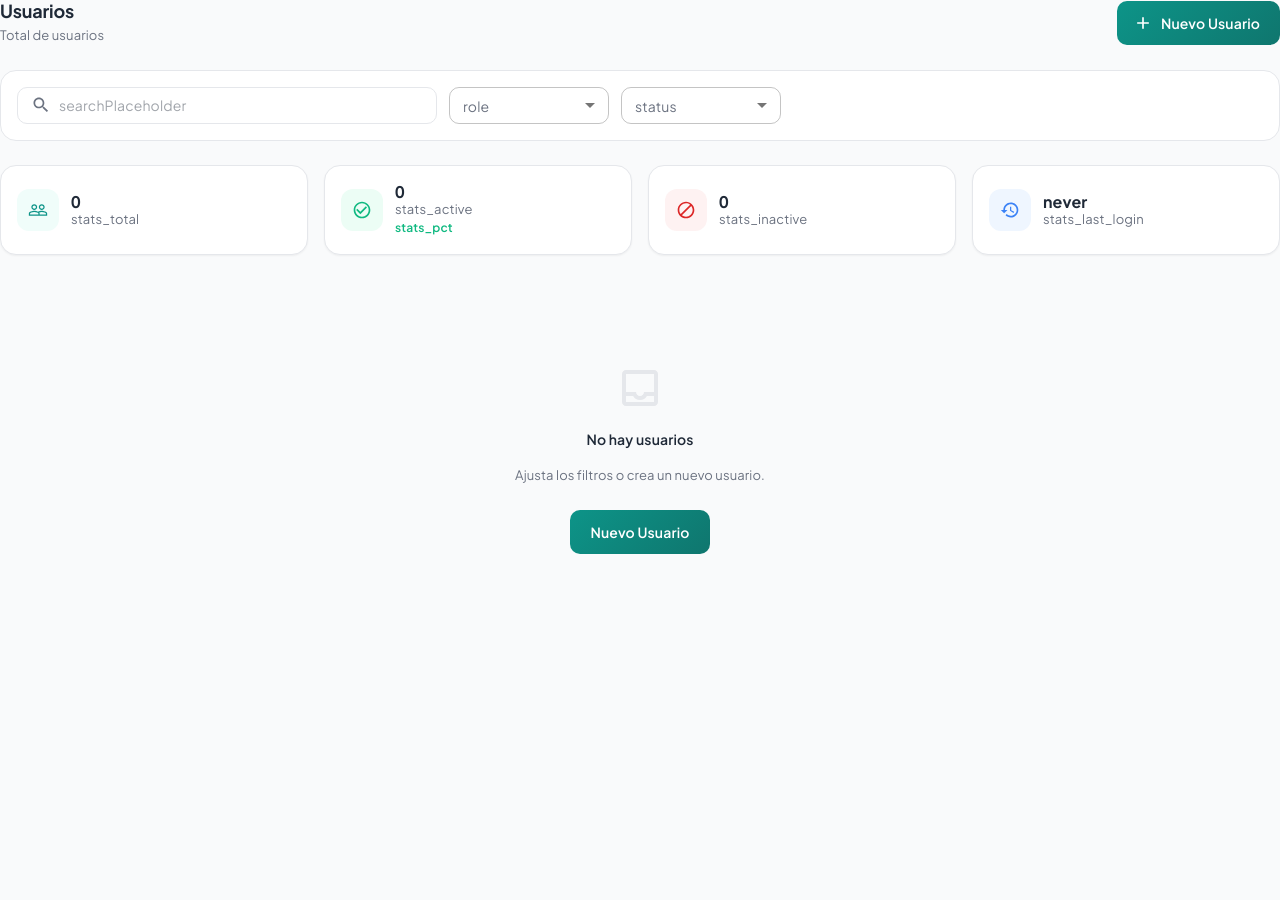
UsersPage › opens the empty state CTA dialog when no users exist
Click the button "Nuevo Usuario" below "No hay usuarios".
click(640, 532)  # box [570,510,710,554]
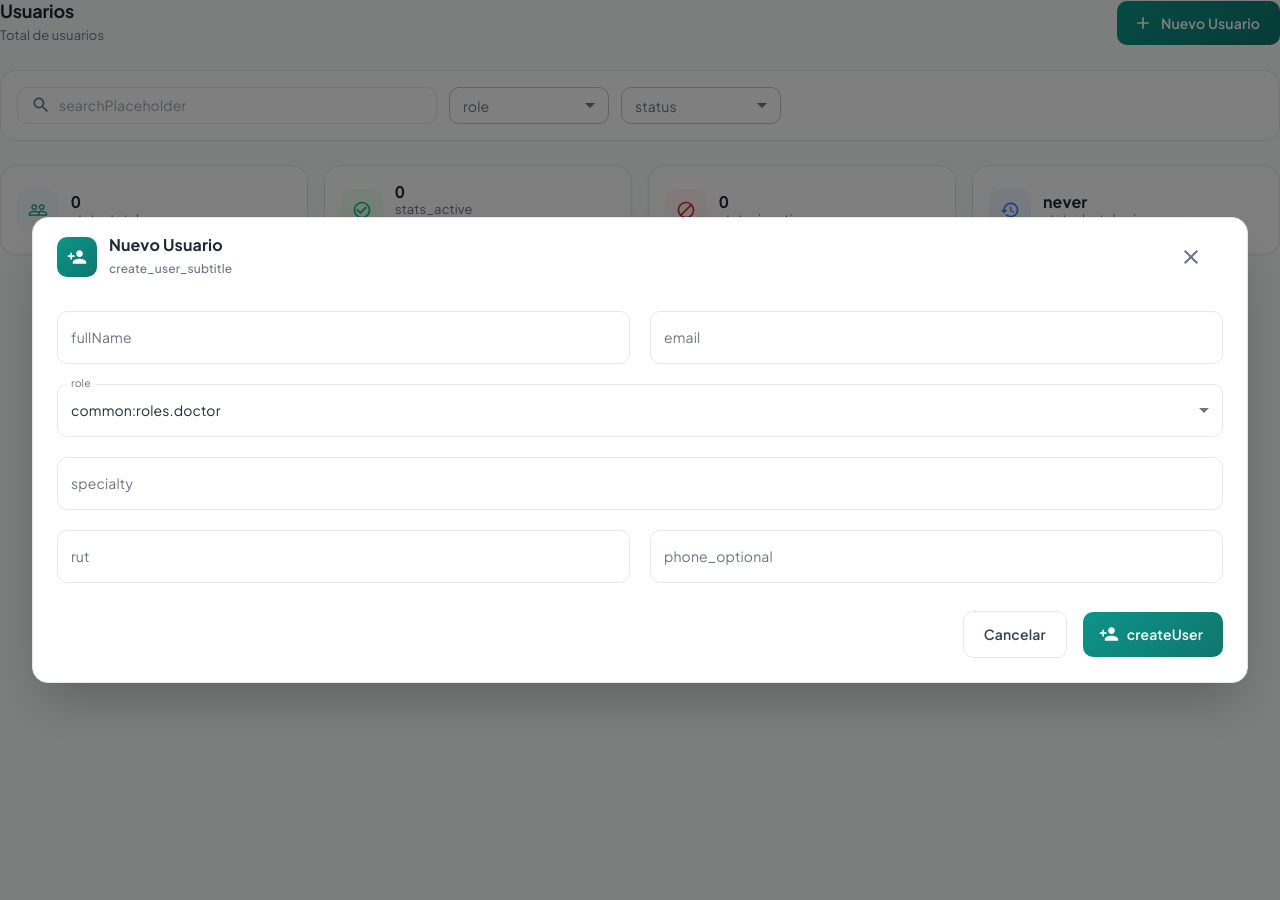
Now the dialog is shown, box [32,217,1248,683]
